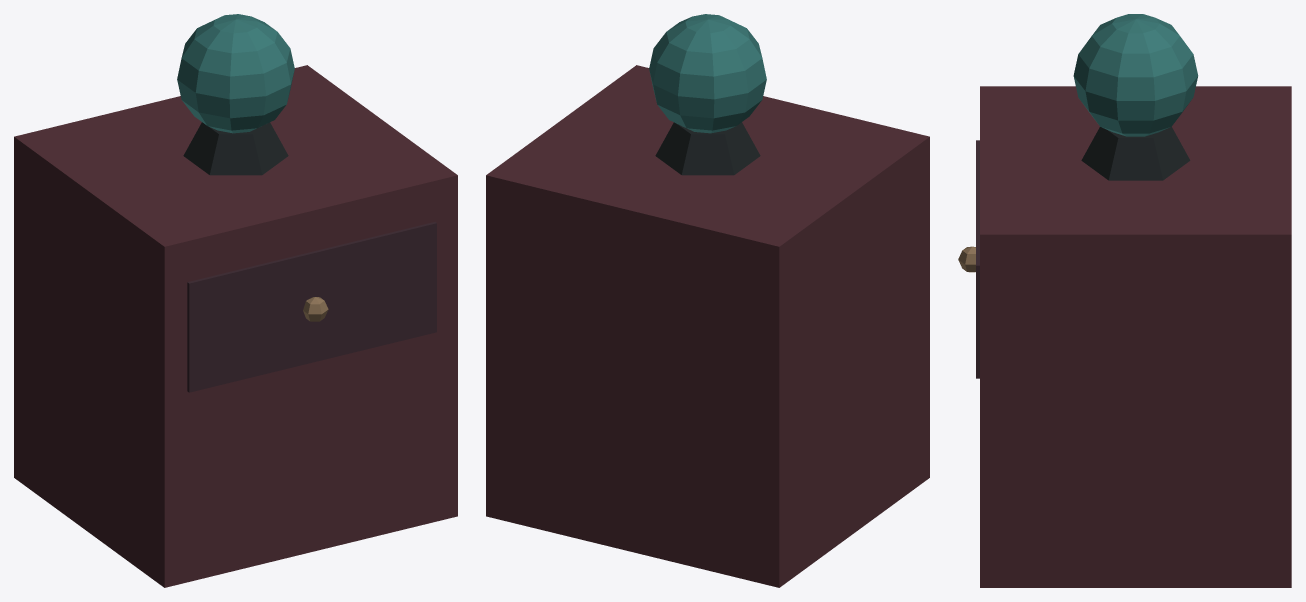
File: noptiera.glb
3 renders of one model, left to right at view 1: azimuth 30°, elevation 25°; view 2: azimuth 150°, elevation 25°; view 3: azimuth 270°, elevation 25°, orthographic. The views are drawn at different scales.
Visible parts, largest first — view 1: Noptiera, Glob; view 2: Noptiera, Glob; view 3: Noptiera, Glob.
Boxes of the visible parts, left/top/right/bottom form: Noptiera: left=14, top=65, right=457, bottom=587; Glob: left=177, top=14, right=294, bottom=133; Noptiera: left=486, top=65, right=929, bottom=587; Glob: left=649, top=14, right=766, bottom=133; Noptiera: left=958, top=86, right=1291, bottom=587; Glob: left=1073, top=14, right=1198, bottom=136.
Size of the model in its own units: 0.45 by 0.7 by 0.428.
